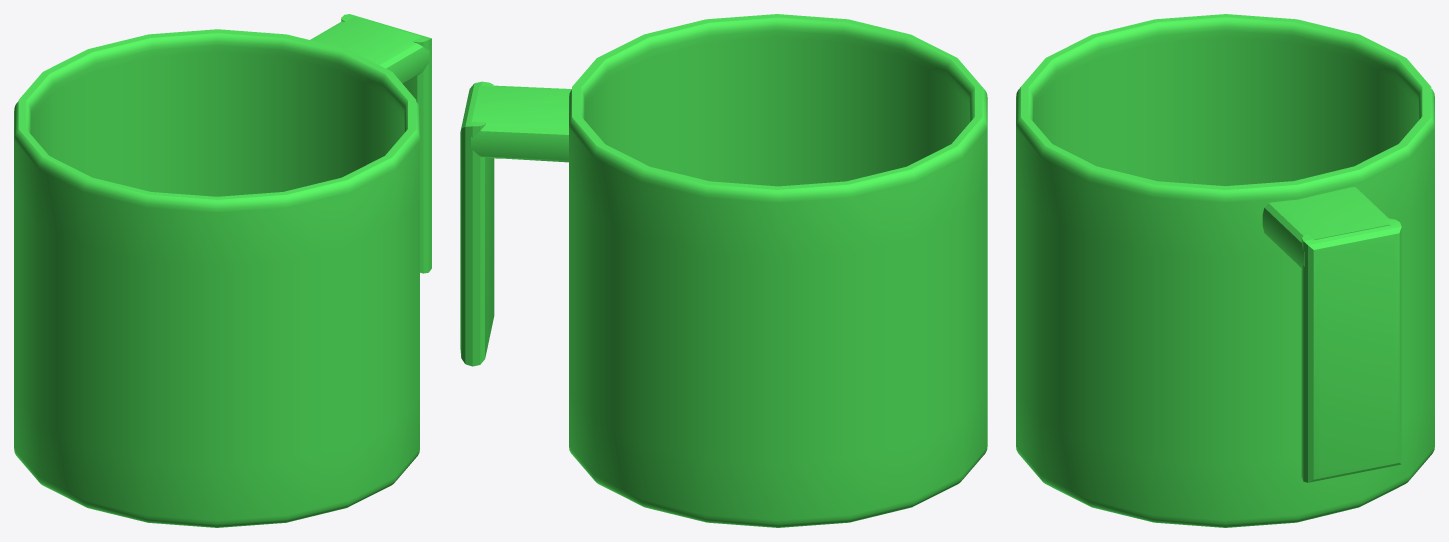
Rendered from cup.FBX.
3 renders of one model, left to right at view 1: azimuth 30°, elevation 25°; view 2: azimuth 150°, elevation 25°; view 3: azimuth 270°, elevation 25°, orthographic. The views are drawn at different scales.
Visible parts, largest first — view 1: Cylinder001; view 2: Cylinder001; view 3: Cylinder001.
Part boxes in pixels (x1,y1,x2,y2): Cylinder001: (14,14,431,527); Cylinder001: (460,14,987,527); Cylinder001: (1016,14,1434,527).
Size of the model in its own units: 20.72 by 15 by 16.74.
